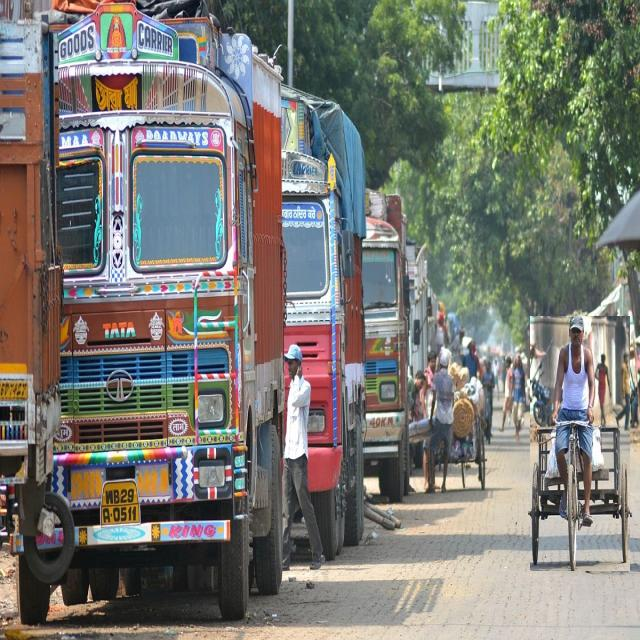bicycle: (530, 317, 630, 571)
truck: (51, 2, 285, 619)
